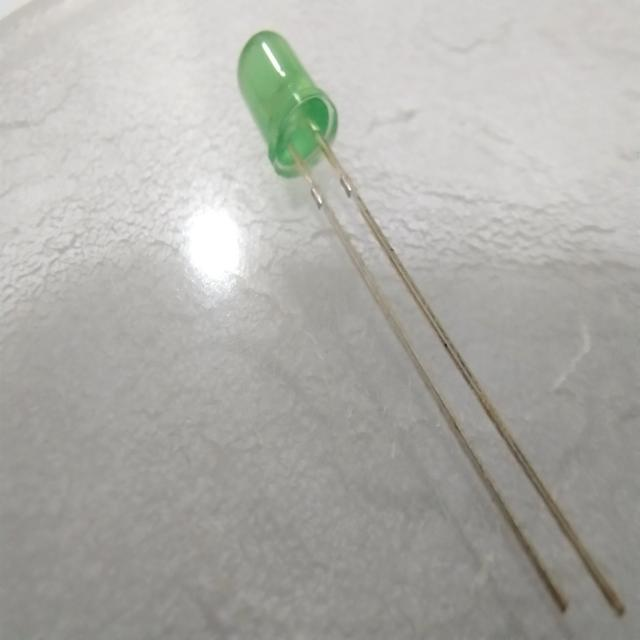green_led: (231, 22, 342, 188)
